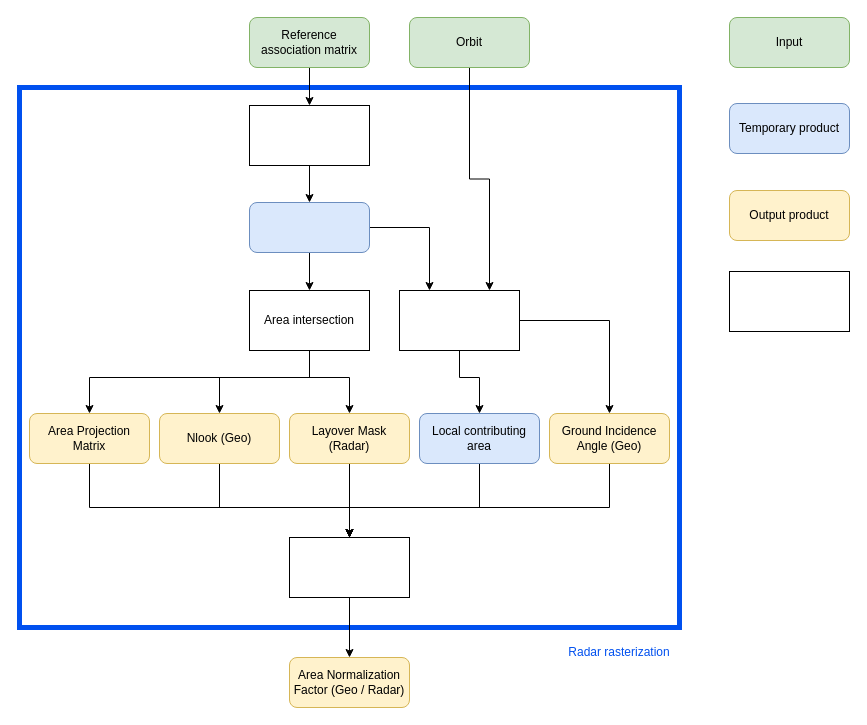
This 867x725 diagram has some shape labels left out. The shapes that lost their labels are listed below. From the top down, each one's centre as x and y in pixels, then its label:
(309,135): Triangular irregular network (TIN)
(309,227): Triangle facets
(459,320): Local incidence angle and contributing area
(789,301): Processing block
(349,567): ANF computation
